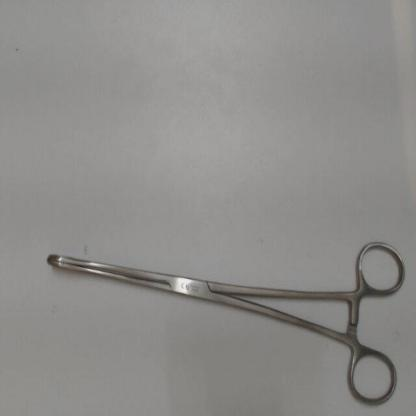Sponge Forceps: (37, 232, 410, 413)
